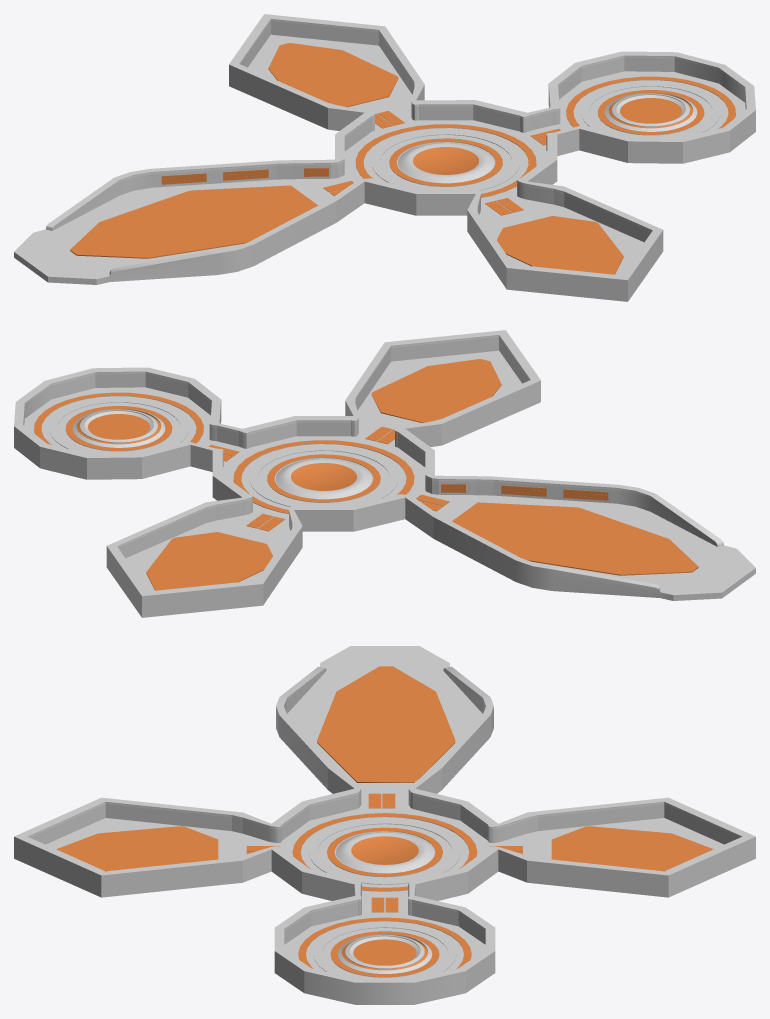
The model's file is yenispaceship.fbx.
3 renders of one model, top to bottom at view 1: azimuth 30°, elevation 25°; view 2: azimuth 150°, elevation 25°; view 3: azimuth 270°, elevation 25°, orthographic. The views are drawn at different scales.
Visible parts, largest first — view 1: Circle, Circle.011, Plane.012, Plane.011, Circle.001, Circle.014; view 2: Circle, Circle.011, Plane.012, Plane.011, Circle.001, Circle.014; view 3: Circle, Circle.011, Plane.012, Plane.011, Circle.001, Circle.014.
Part boxes in pixels (bbox=[...]): Circle: bbox=[14, 51, 755, 284]; Circle.011: bbox=[229, 14, 663, 301]; Plane.012: bbox=[70, 185, 317, 258]; Plane.011: bbox=[268, 43, 623, 274]; Circle.001: bbox=[355, 124, 536, 197]; Circle.014: bbox=[566, 76, 735, 137]; Circle: bbox=[14, 367, 755, 600]; Circle.011: bbox=[106, 330, 540, 617]; Plane.012: bbox=[452, 502, 698, 575]; Plane.011: bbox=[146, 359, 501, 590]; Circle.001: bbox=[233, 440, 414, 513]; Circle.014: bbox=[34, 392, 203, 453]; Circle: bbox=[243, 646, 526, 1004]; Circle.011: bbox=[14, 797, 755, 897]; Plane.012: bbox=[317, 666, 455, 782]; Plane.011: bbox=[56, 826, 713, 871]; Circle.001: bbox=[292, 813, 477, 891]; Circle.014: bbox=[298, 917, 471, 978].
Bounding box in the file's own units: 4308 × 126 × 3829.
